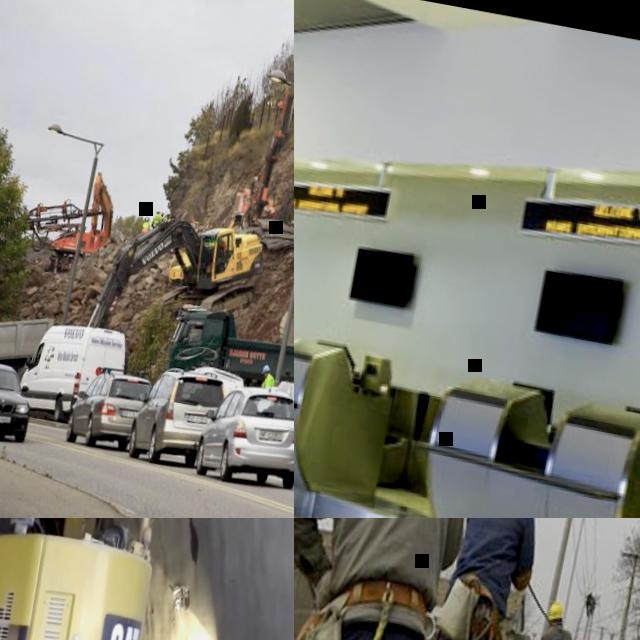Hardhat: (547, 601, 566, 623), (262, 364, 270, 373), (144, 215, 149, 221), (156, 208, 161, 213), (219, 239, 223, 245), (161, 209, 165, 214), (167, 211, 171, 215)
NO-Mask: (263, 373, 268, 379)
NO-Safety Vest: (316, 518, 464, 632), (453, 518, 528, 612), (537, 624, 575, 640)
Person: (294, 518, 494, 640), (413, 518, 556, 640), (518, 598, 581, 640), (260, 364, 277, 389), (216, 238, 228, 257), (151, 207, 162, 226), (142, 215, 152, 230), (163, 210, 172, 222), (159, 209, 166, 221)
Safety Vest: (260, 374, 275, 390), (219, 241, 228, 256), (152, 213, 161, 226), (142, 220, 151, 228), (165, 214, 171, 222), (160, 215, 163, 221)
machinery: (0, 518, 294, 640), (86, 205, 281, 359), (2, 157, 122, 280), (165, 300, 294, 398), (226, 77, 294, 234), (0, 288, 55, 420)
vehicle: (14, 314, 131, 431), (125, 360, 229, 473), (192, 377, 294, 492), (64, 365, 154, 454), (0, 354, 38, 447), (265, 378, 294, 464), (189, 364, 246, 398)
